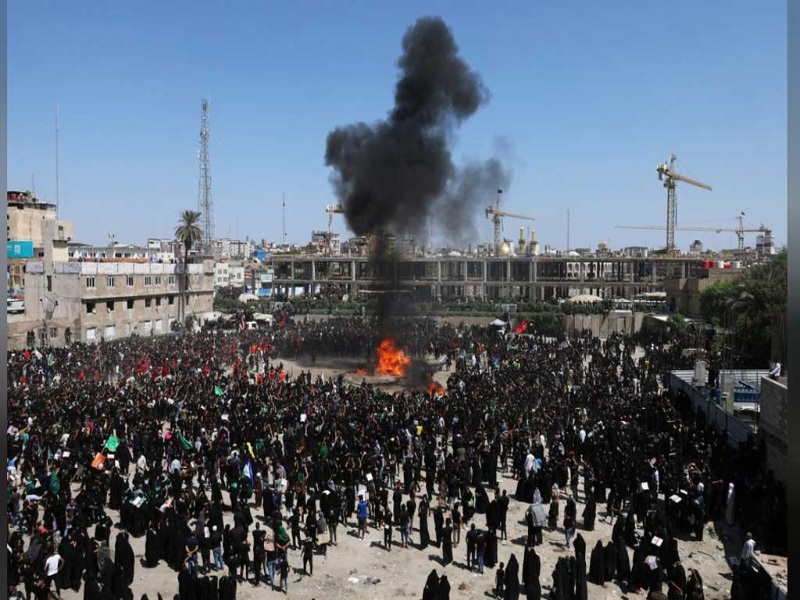smoke: (333, 21, 474, 246)
